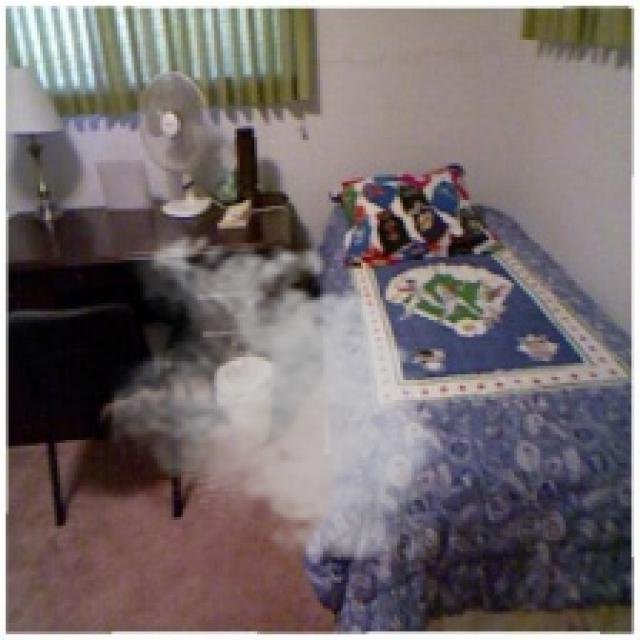smoke: (109, 223, 457, 568)
